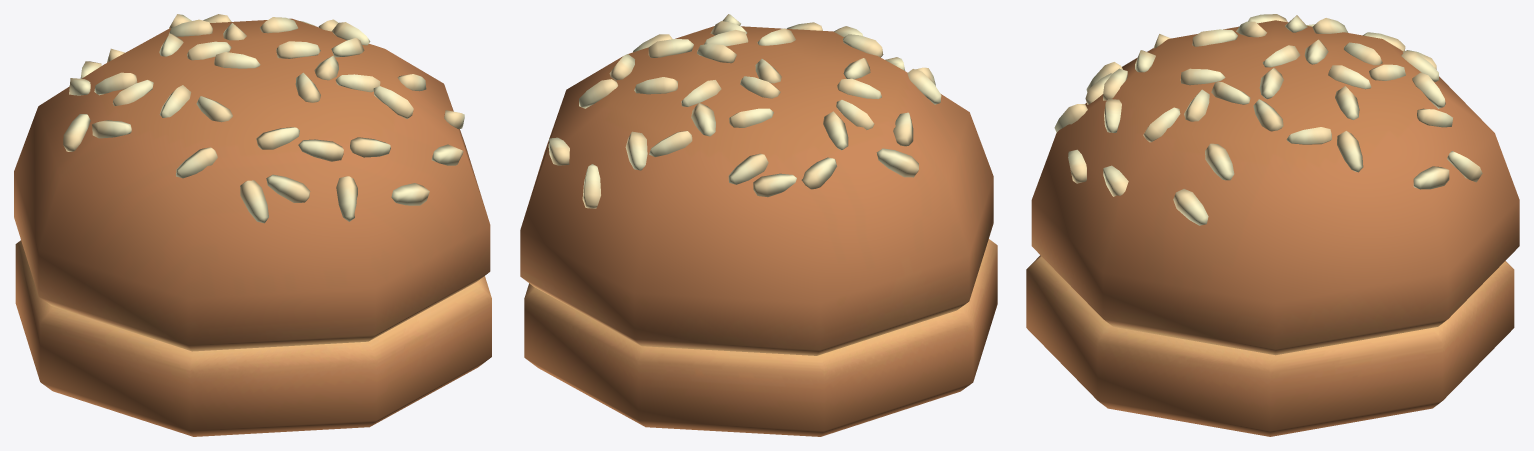
The model's file is bun.obj.
3 renders of one model, left to right at view 1: azimuth 30°, elevation 25°; view 2: azimuth 150°, elevation 25°; view 3: azimuth 270°, elevation 25°, orthographic.
Visible parts, largest first — view 1: BunTop1, BunBottom1; view 2: BunTop1, BunBottom1; view 3: BunTop1, BunBottom1.
Boxes of the visible parts, <box> form: BunTop1: <box>14,14,490,351</box>; BunBottom1: <box>15,240,491,436</box>; BunTop1: <box>520,14,993,355</box>; BunBottom1: <box>524,239,997,436</box>; BunTop1: <box>1031,14,1519,355</box>; BunBottom1: <box>1026,255,1514,436</box>.
Size of the model in its own units: 1.9 by 1.24 by 1.92.
1 material, 1 textured.
